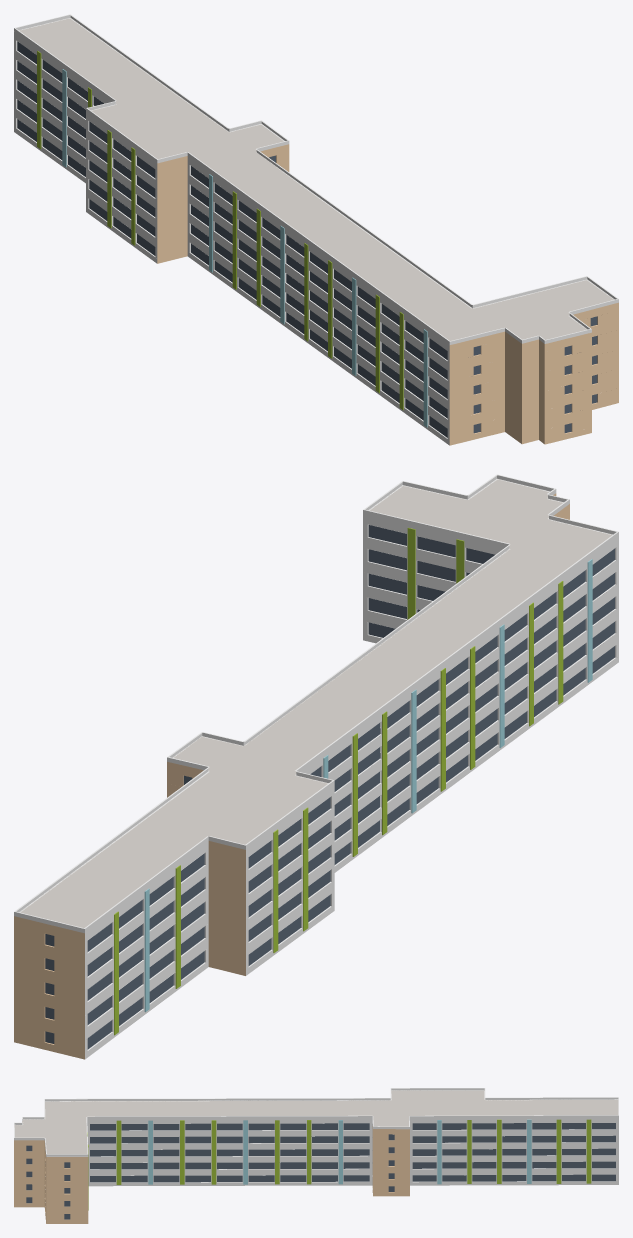
File: singu_es.glb
3 renders of one model, top to bottom at view 1: azimuth 30°, elevation 25°; view 2: azimuth 150°, elevation 25°; view 3: azimuth 270°, elevation 25°, orthographic. The views are drawn at different scales.
Visible parts, largest first — view 1: singu_es; view 2: singu_es; view 3: singu_es.
Part boxes in pixels (bbox=[...]): singu_es: bbox=[14, 14, 618, 445]; singu_es: bbox=[14, 474, 618, 1059]; singu_es: bbox=[14, 1088, 618, 1223].
Size of the model in its own units: 37.5 by 18.2 by 144.
